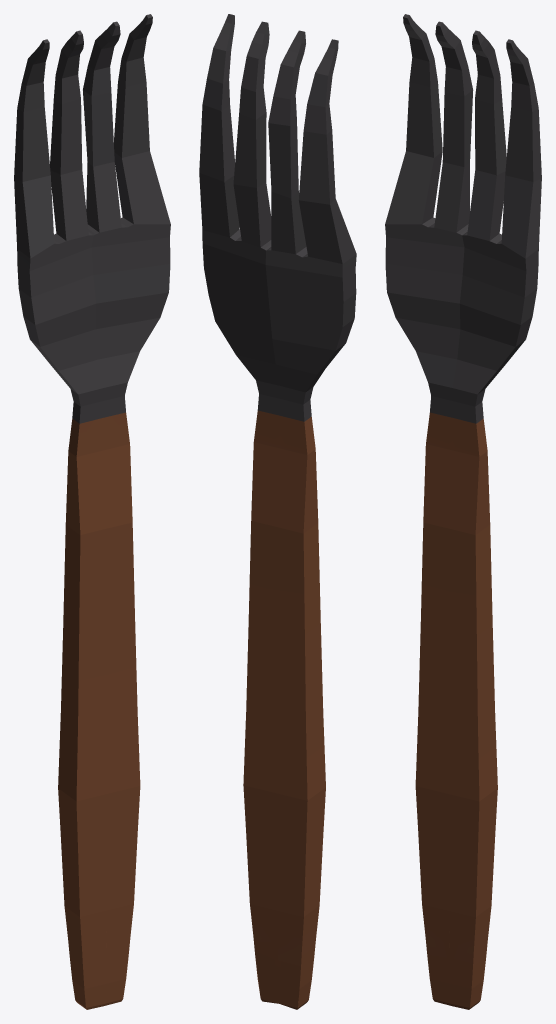
Rendered from fork_bullet.fbx.
3 views of the same model, side by side, from view 1: azimuth 30°, elevation 25°; view 2: azimuth 150°, elevation 25°; view 3: azimuth 330°, elevation 25° (orthographic).
Parts seen in each view (by area): view 1: Cube.001; view 2: Cube.001; view 3: Cube.001.
Boxes of the visible parts, x1,y1,x2,y2 form: Cube.001: [14, 14, 170, 1009]; Cube.001: [199, 14, 356, 1009]; Cube.001: [385, 14, 541, 1009].
Bounding box in the file's own units: 16.23 × 108 × 6.46.
